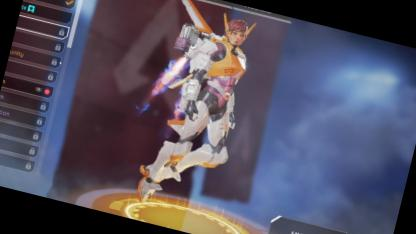Target: (146, 1, 268, 197)
